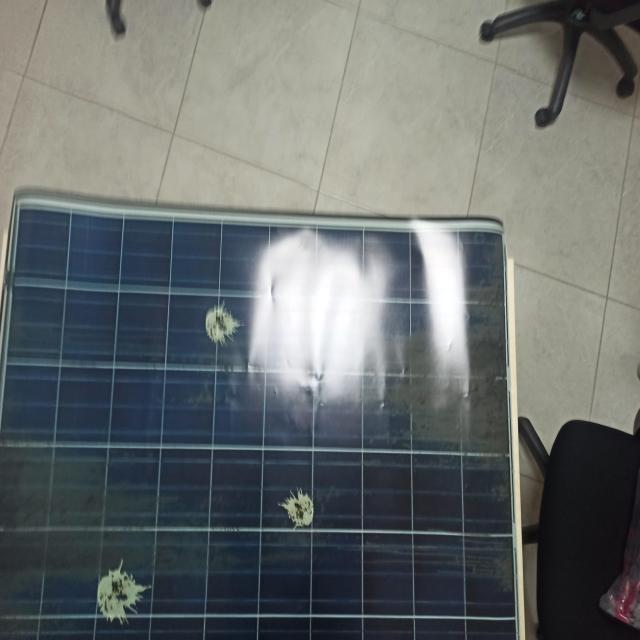Bird-drop: (94, 556, 154, 625), (206, 298, 246, 346), (275, 486, 316, 528)
Dusty: (0, 426, 188, 640), (373, 231, 518, 504), (364, 521, 517, 602)
